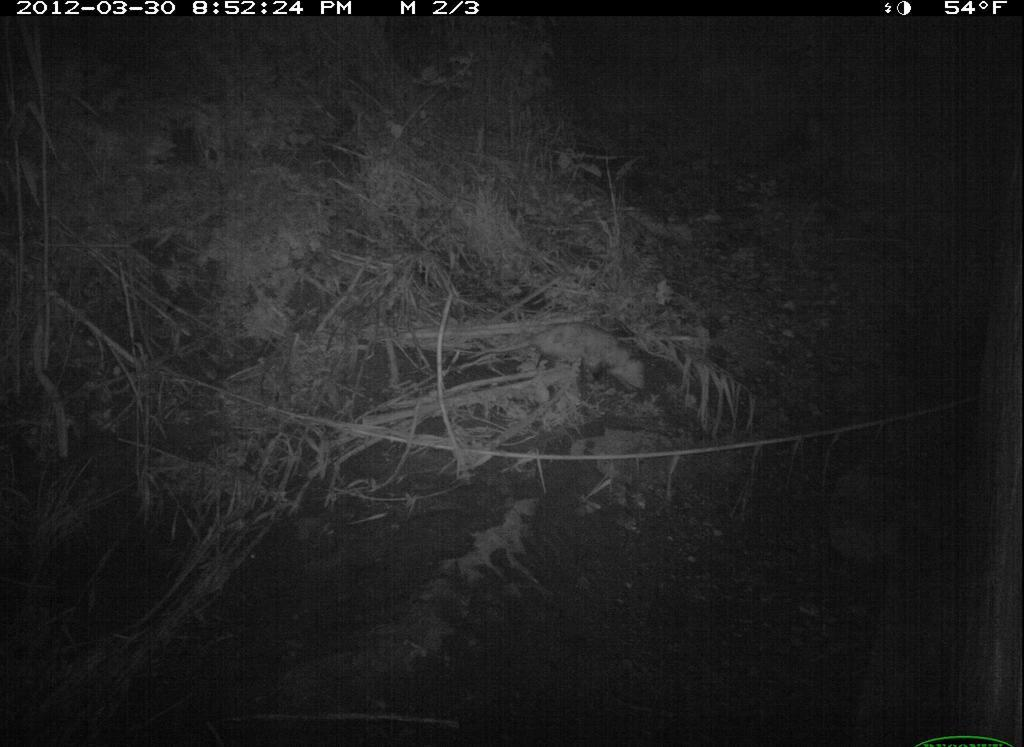opossum: (538, 315, 653, 402)
